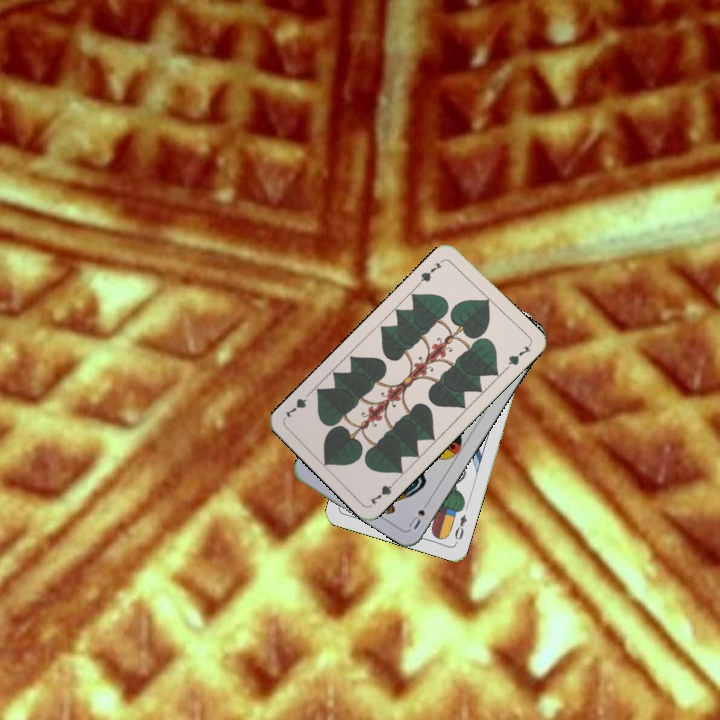EO: (450, 510, 470, 543)
G7: (365, 475, 400, 507), (414, 259, 444, 288)
SU: (404, 495, 433, 532)
